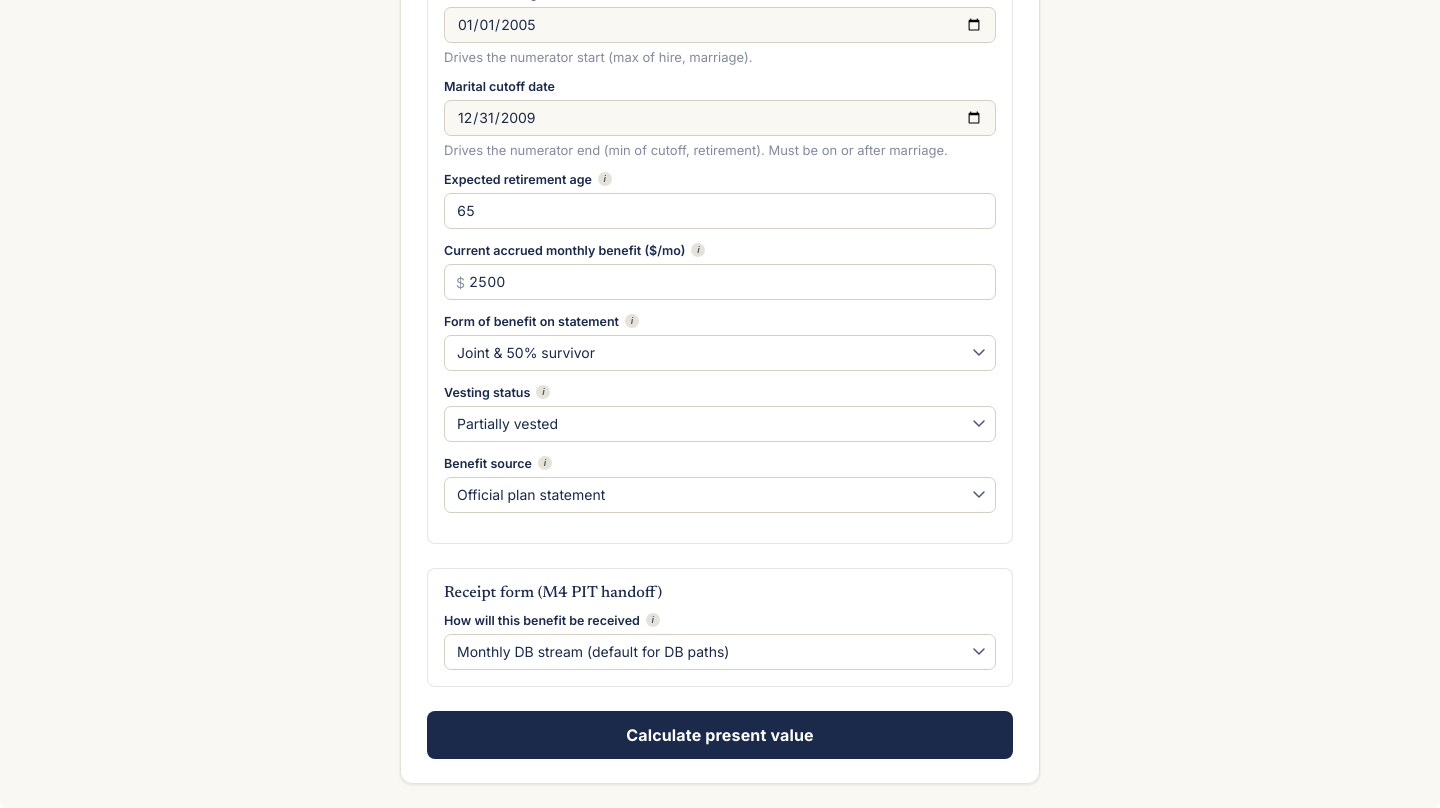
Test case: PVA orchestrator (§7.10.3 / LL-17) › TC-PVA-Orchestrator-14: coverture_zero_combo seed surfaces precedence-sorted multi-callout stack
(page scrolled)
Step 1. Click the button "Calculate present value" → (720, 735), box [427,711,1013,759]
(page scrolled)
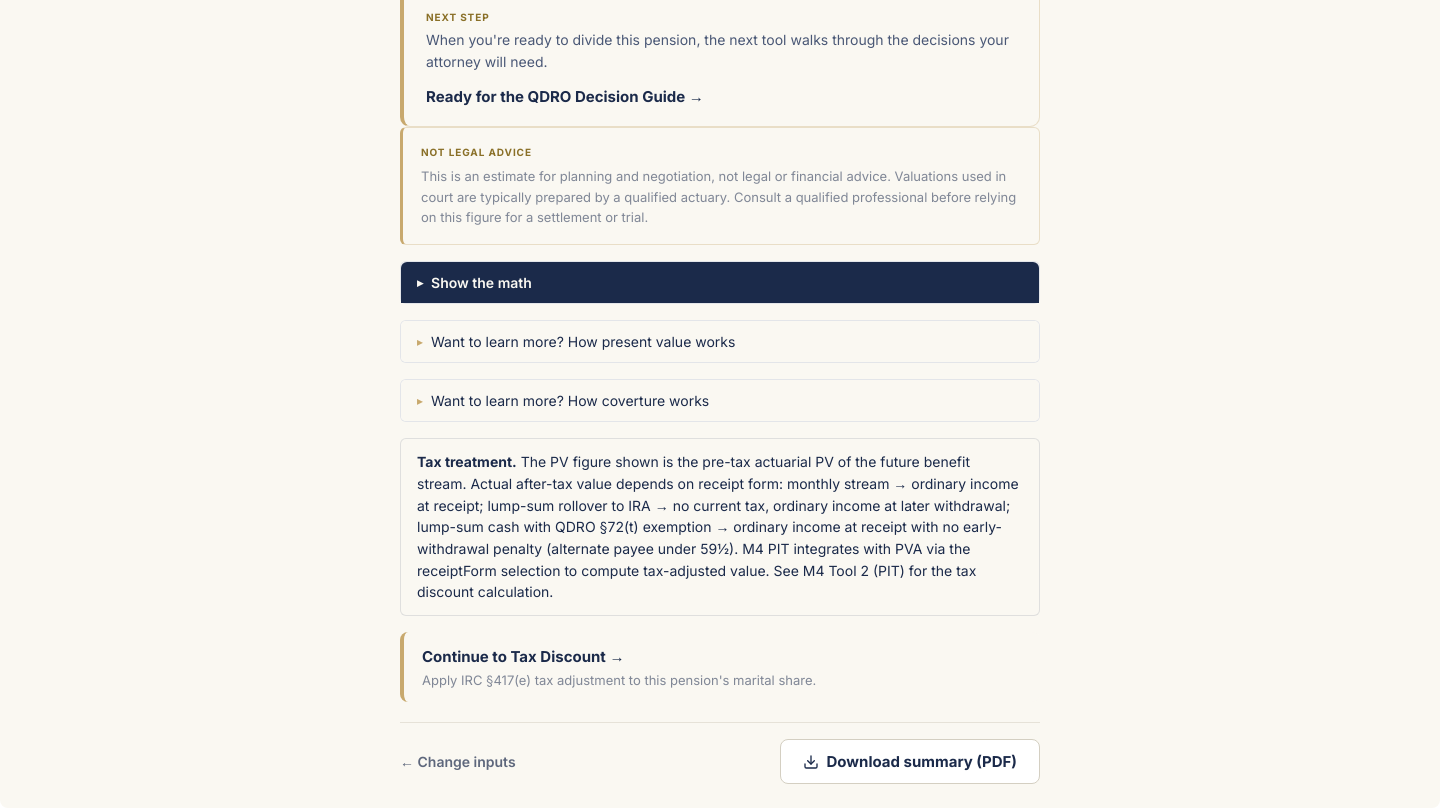
Check: the element with test id "callout-liability_disclaimer" is shown, box [400,127,1040,245]
